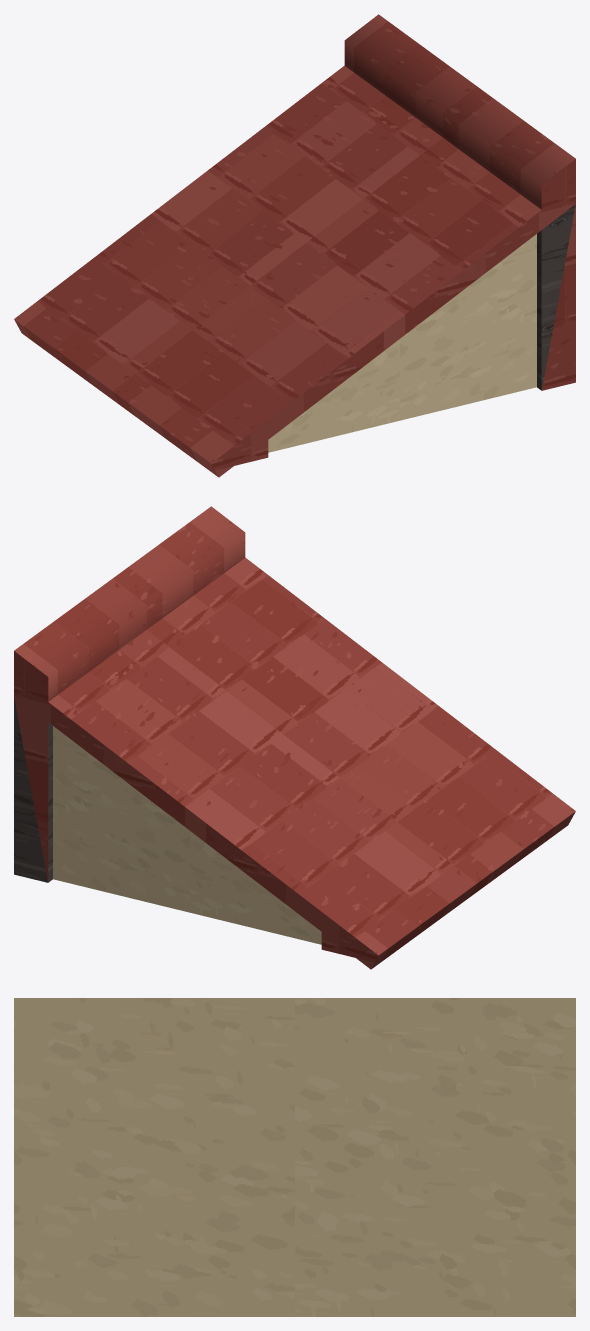
The model's file is roof.gltf.
The picture shows the model from 3 angles, top to bottom: view 1: azimuth 30°, elevation 25°; view 2: azimuth 150°, elevation 25°; view 3: azimuth 270°, elevation 25°; orthographic projection. The views are drawn at different scales.
Visible parts, largest first — view 1: roof; view 2: roof; view 3: roof.
Part boxes in pixels (<box>): roof: <box>14,14,575,477</box>; roof: <box>14,506,575,969</box>; roof: <box>14,998,575,1316</box>.
Bounding box in the file's own units: 1.07 × 0.6483 × 1.
3 materials, 3 textured.
